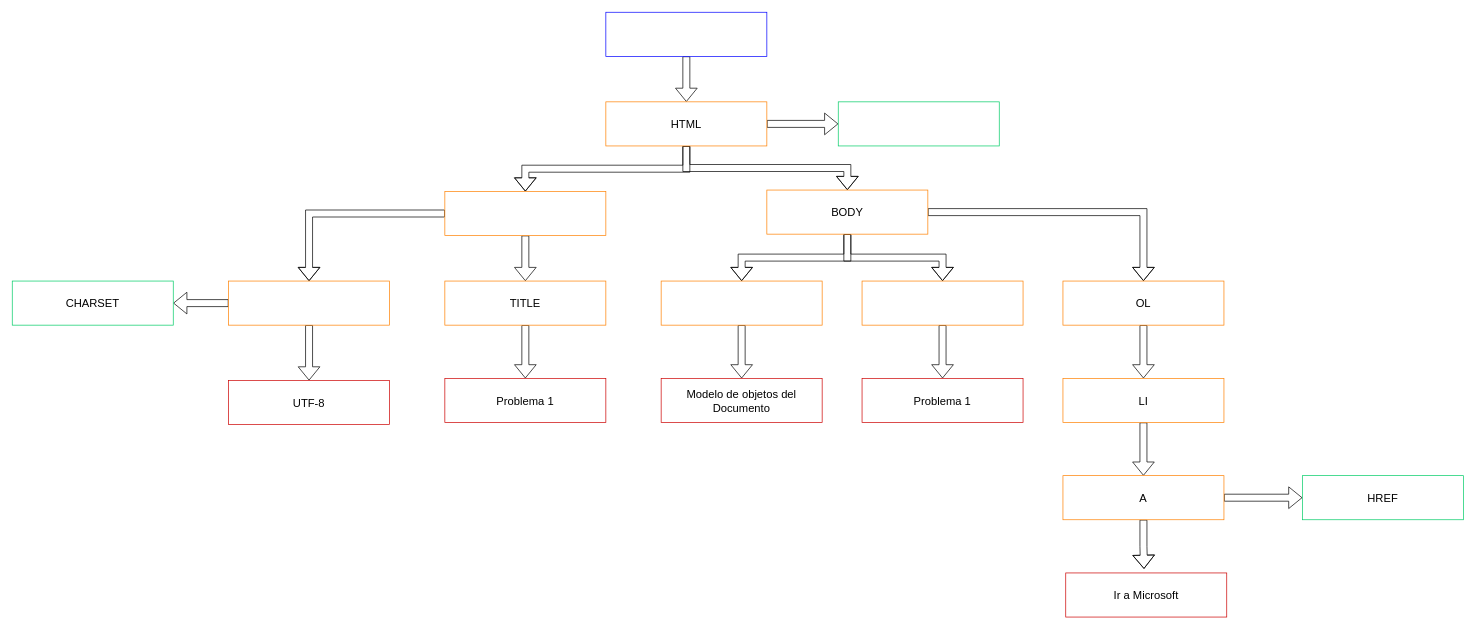
The diagram is 1476 pixels wide and 629 high, and some of its shapes have lost their labels. The centre of each missing label's shape, as x and y in pixels:
"DOCUMENT" belongs at point 686,34.
"H1" belongs at point 741,302.
"H2" belongs at point 942,302.
"HEAD" belongs at point 525,213.
"LANG" belongs at point 918,123.
"META" belongs at point 309,302.
